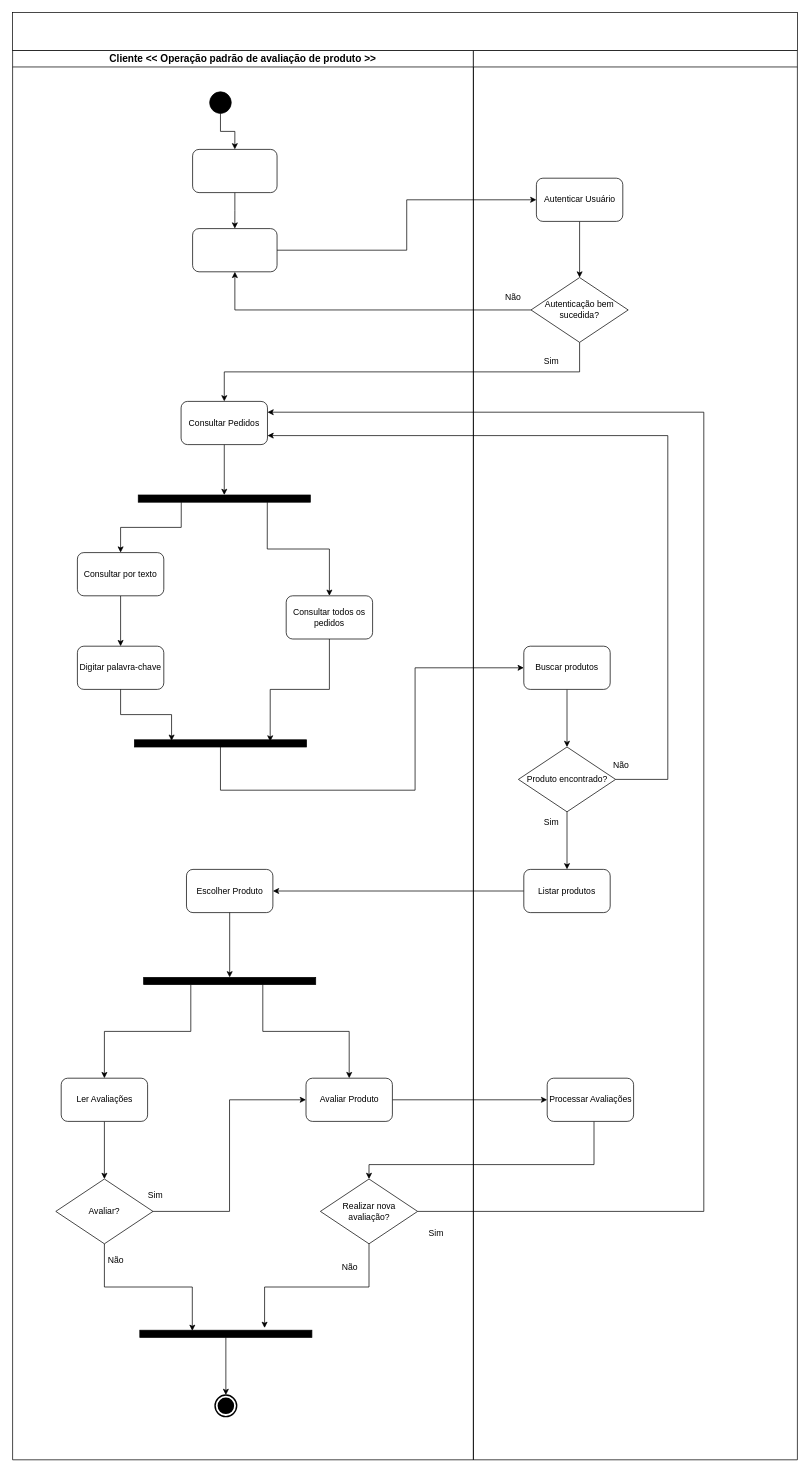
This 810x1472 diagram has some shape labels left out. The centre of each missing label's shape, as x and y in pixels:
Avaliar Pedido: the point at 404,31
Digitar email e senha: the point at 234,250
Realizar Login: the point at 234,171
Site << Processamento de eventos do usuário >>: the point at 635,755
